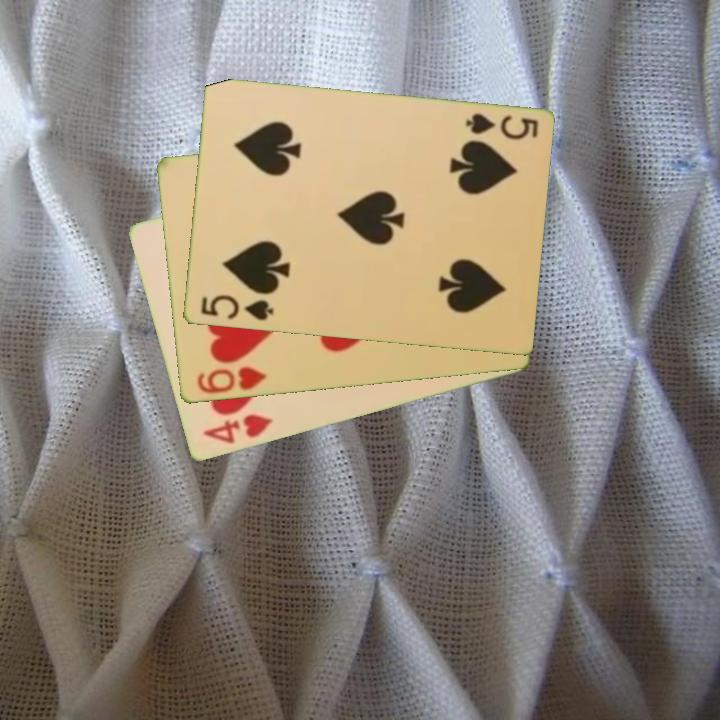4h: (199, 411, 276, 448)
5s: (461, 110, 541, 143), (197, 291, 276, 324)
6h: (193, 364, 269, 397)
